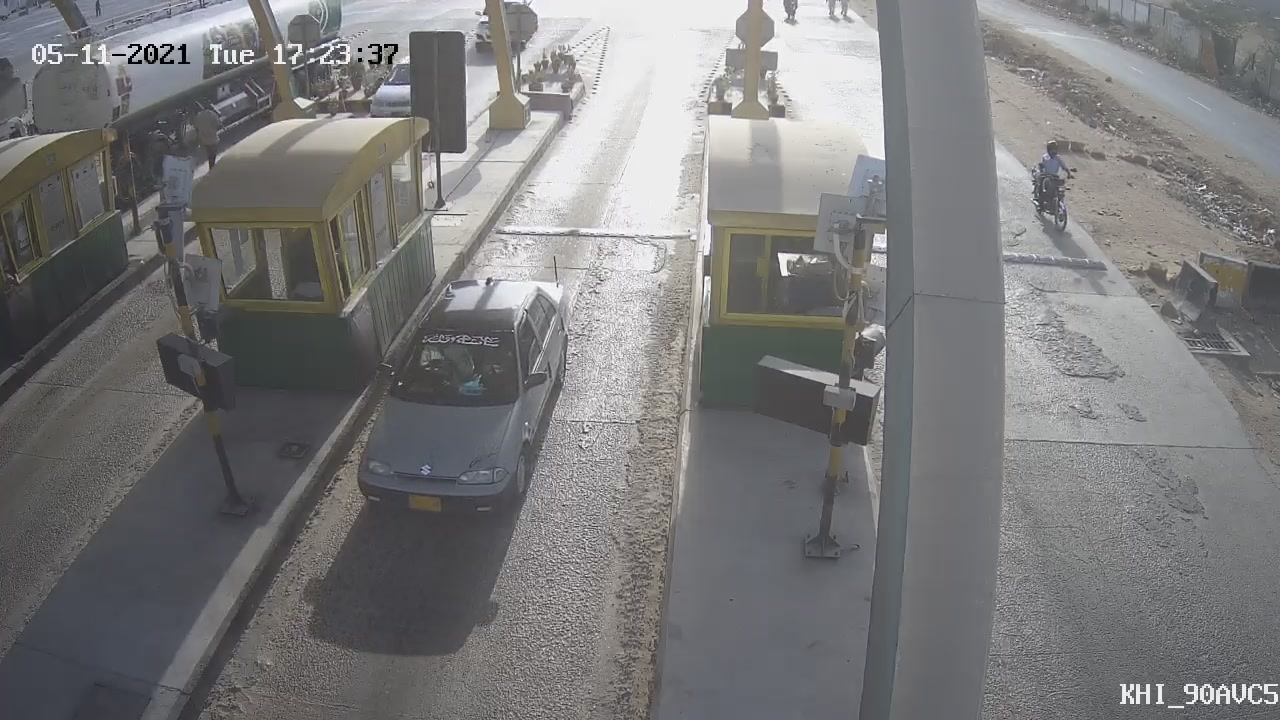F1: (331, 249, 591, 542)
